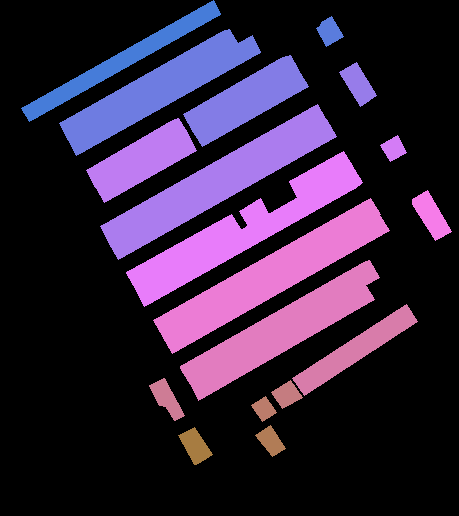parkingspot: (108, 119, 336, 259), (162, 213, 389, 353), (136, 166, 362, 306), (153, 198, 380, 337), (100, 104, 326, 243), (180, 260, 379, 384), (21, 0, 220, 121), (68, 35, 260, 155), (190, 283, 374, 400), (59, 29, 238, 140), (292, 304, 417, 395), (183, 55, 299, 132), (192, 70, 308, 146), (126, 214, 241, 290), (86, 118, 188, 187), (95, 133, 196, 202), (289, 151, 353, 199), (412, 190, 451, 240), (339, 62, 376, 106), (149, 378, 184, 420), (178, 427, 212, 464), (255, 425, 285, 456), (271, 380, 302, 408), (239, 198, 269, 226), (316, 16, 343, 46), (380, 135, 406, 161), (251, 396, 276, 421)
